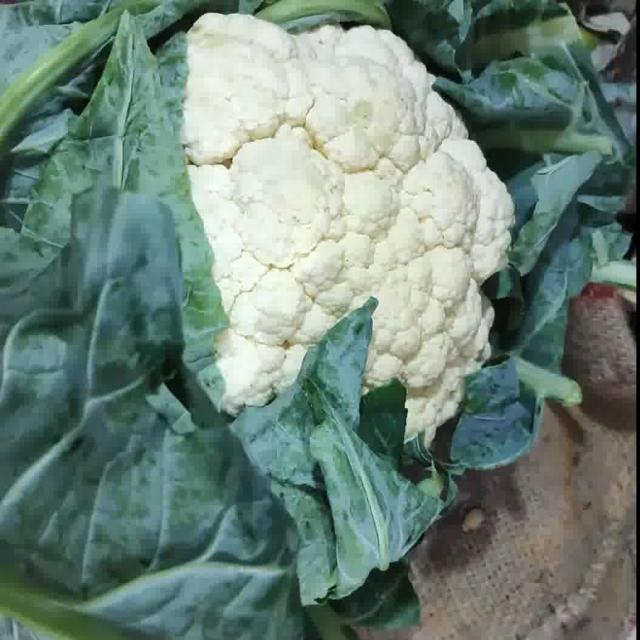Cauliflower: (181, 13, 514, 444)
